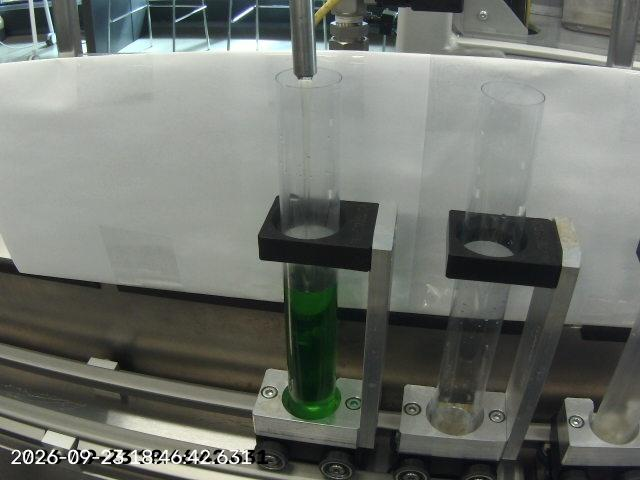vial: (416, 73, 549, 435), (260, 61, 354, 418)
